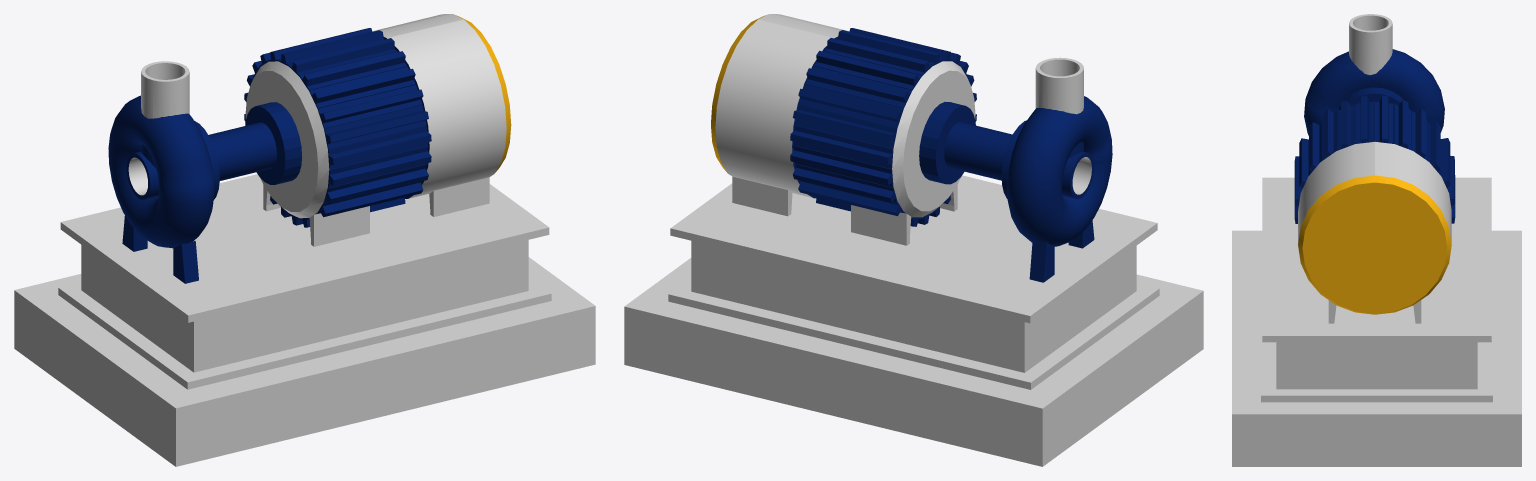
The model's file is pompa.fbx.
3 views of the same model, side by side, from view 1: azimuth 30°, elevation 25°; view 2: azimuth 150°, elevation 25°; view 3: azimuth 270°, elevation 25° (orthographic). The views are drawn at different scales.
Visible parts, largest first — view 1: Group1, Group2; view 2: Group1; view 3: Group1.
Part boxes in pixels (x1,y1,x2,y2): Group1: [14, 14, 595, 466]; Group2: [429, 177, 489, 216]; Group1: [624, 14, 1203, 466]; Group1: [1232, 14, 1521, 466].
Bounding box in the file's own units: 1.5 × 1.1 × 1.
